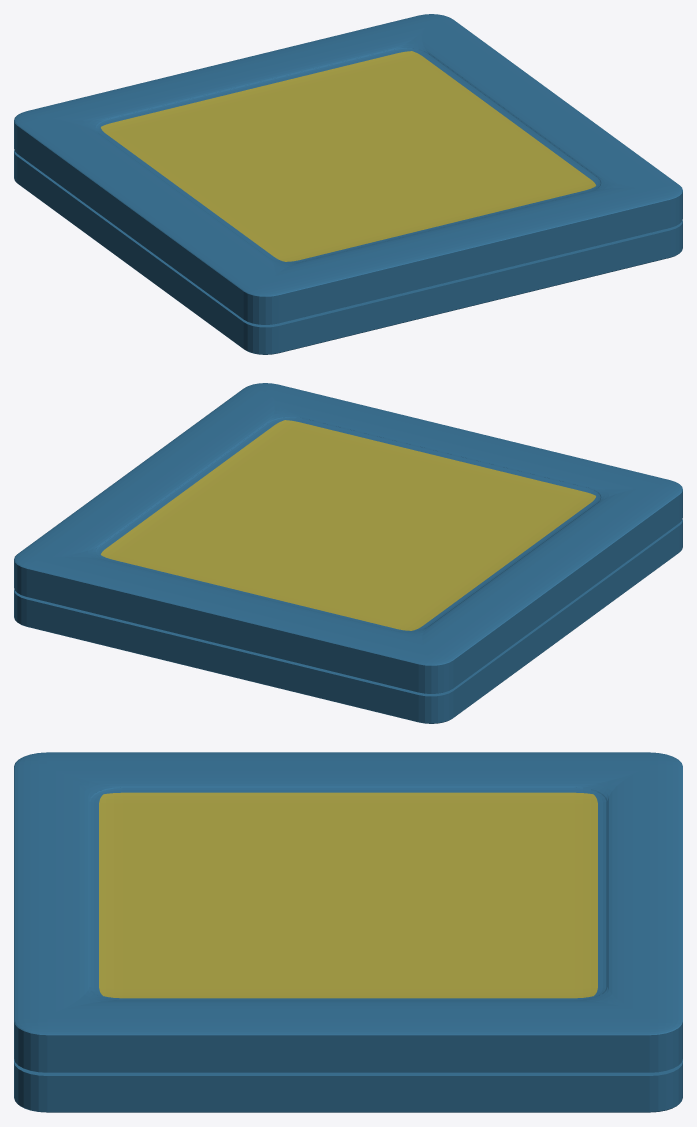
Rendered from platti.fbx.
3 renders of one model, top to bottom at view 1: azimuth 30°, elevation 25°; view 2: azimuth 150°, elevation 25°; view 3: azimuth 270°, elevation 25°, orthographic. The views are drawn at different scales.
Parts seen in each view (by area): view 1: plattform2, plattform1; view 2: plattform2, plattform1; view 3: plattform2, plattform1.
Part boxes in pixels (x1,y1,x2,y2): plattform2: (14,14,682,324); plattform1: (14,150,682,354); plattform2: (14,383,682,693); plattform1: (14,519,682,723); plattform2: (14,752,682,1072); plattform1: (14,1059,682,1112).
Bounding box in the file's own units: 223 × 30.67 × 223.
